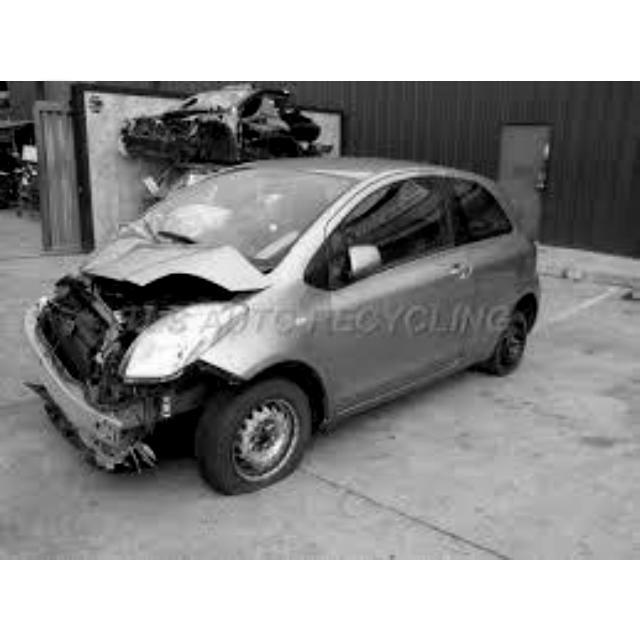bonnet-dent: (94, 221, 254, 300)
front-bumper-dent: (28, 350, 141, 458)
